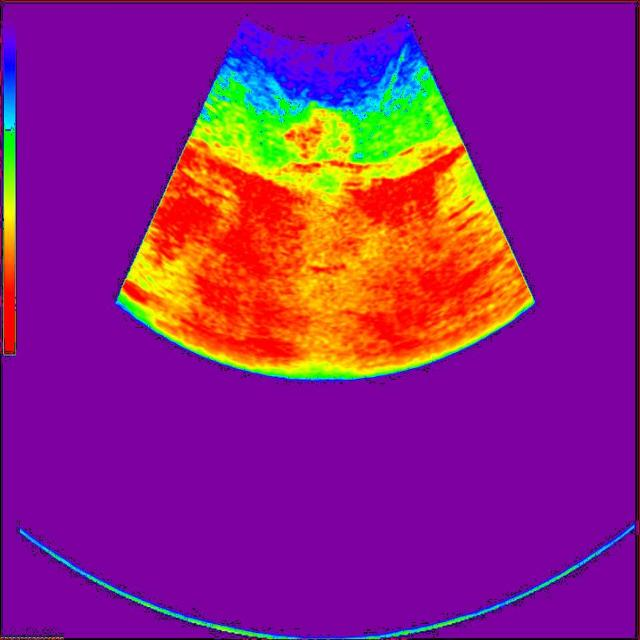lamb muscle post: (283, 106, 349, 162)
